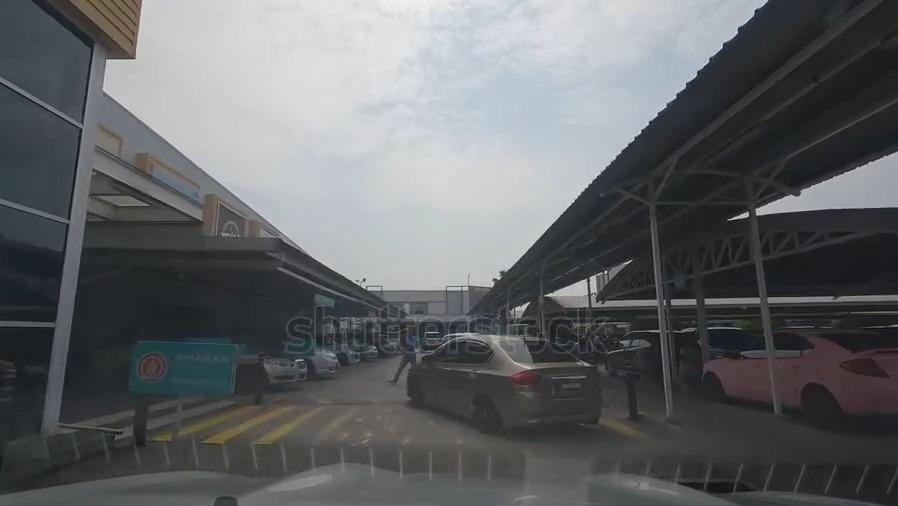car: (401, 337, 602, 424), (705, 331, 898, 416), (92, 338, 305, 393), (605, 332, 703, 385), (300, 341, 337, 374), (334, 340, 358, 362), (421, 328, 442, 350), (356, 341, 378, 359)
manhole: (675, 475, 754, 496)
person: (397, 323, 415, 383)
speedbump: (153, 415, 689, 450), (274, 393, 418, 411)
wheel: (474, 395, 501, 431), (241, 363, 267, 388)
